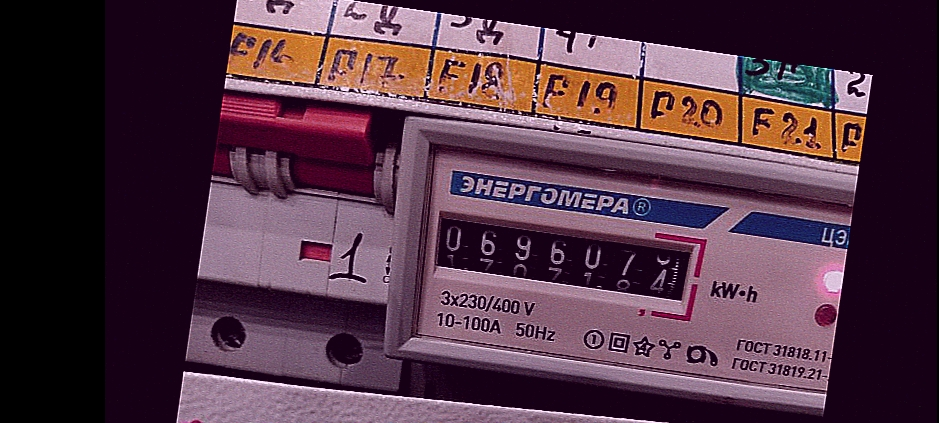0: (441, 222, 466, 255), (582, 241, 605, 273)
4: (646, 266, 669, 297)
6: (546, 236, 570, 270), (477, 227, 500, 259)
7: (616, 245, 638, 278)
9: (511, 232, 535, 264)
screen: (418, 194, 711, 325)
